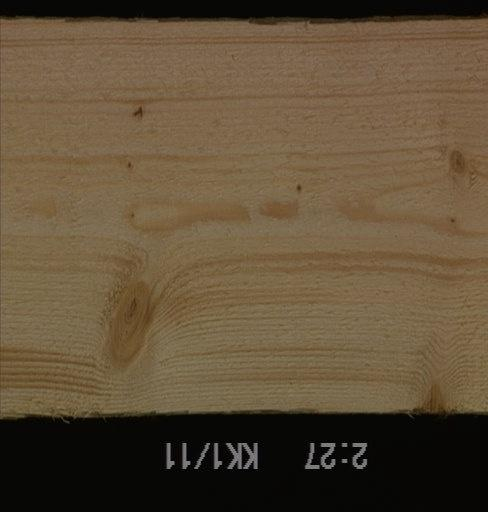small_knot: (122, 100, 153, 126), (118, 205, 148, 230), (121, 150, 139, 176), (441, 213, 461, 231), (286, 179, 304, 197)
sound_knot: (438, 144, 475, 187)
